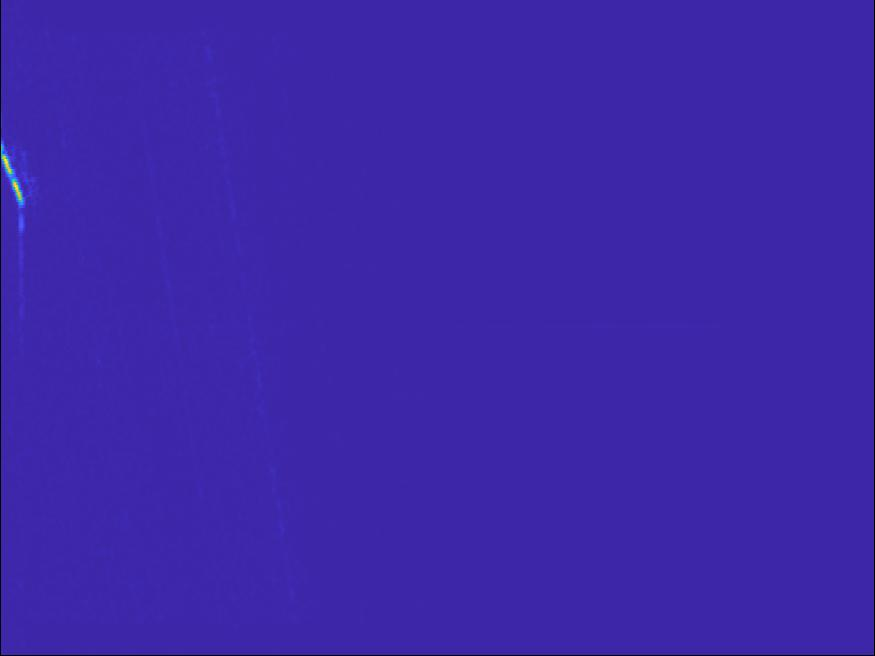Interference: (229, 177, 377, 289), (42, 284, 231, 368), (364, 498, 457, 538), (302, 303, 369, 355), (1, 570, 91, 608)
